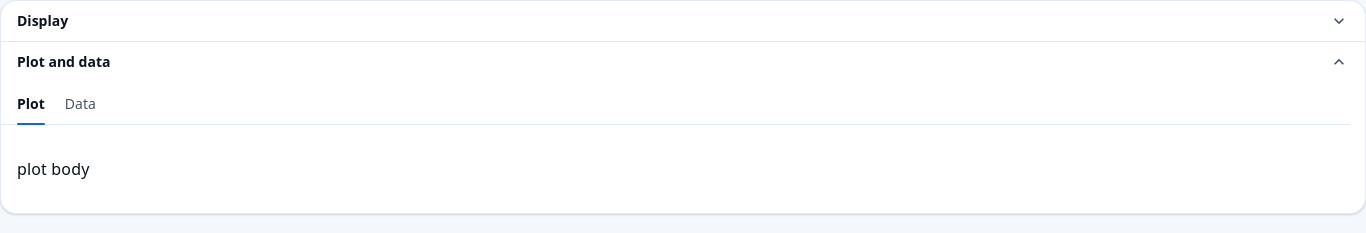
Test case: Inspector sections (ruling R24-3) › folds the open section on a second press, leaving every header folded, and remembers that
The width and height of the screenshot is (1366, 233).
Click the button "Plot and data": (64, 62) [17,48,1349,76]
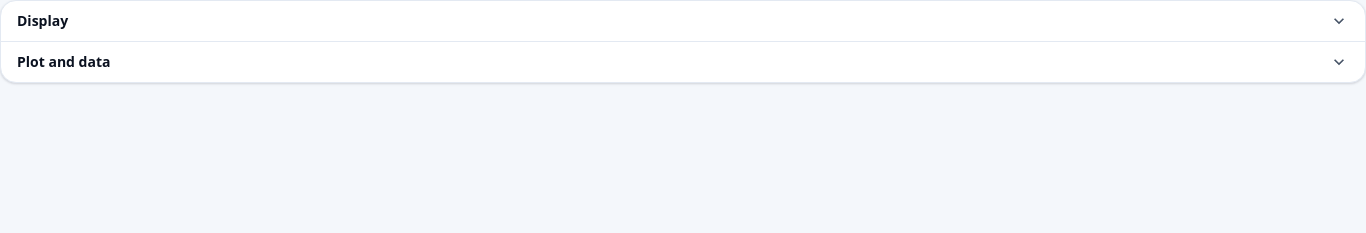
expect the button "Plot and data" is collapsed: met, box [17,48,1349,76]
